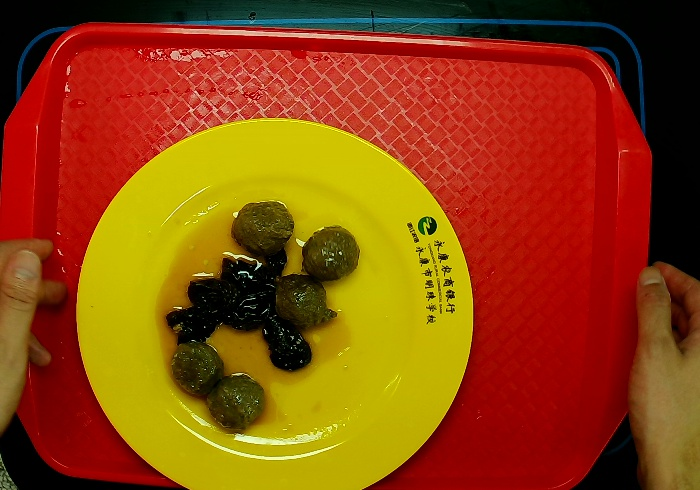YKMZ-Huang_Se_Mian_Pan: (71, 119, 475, 490)
